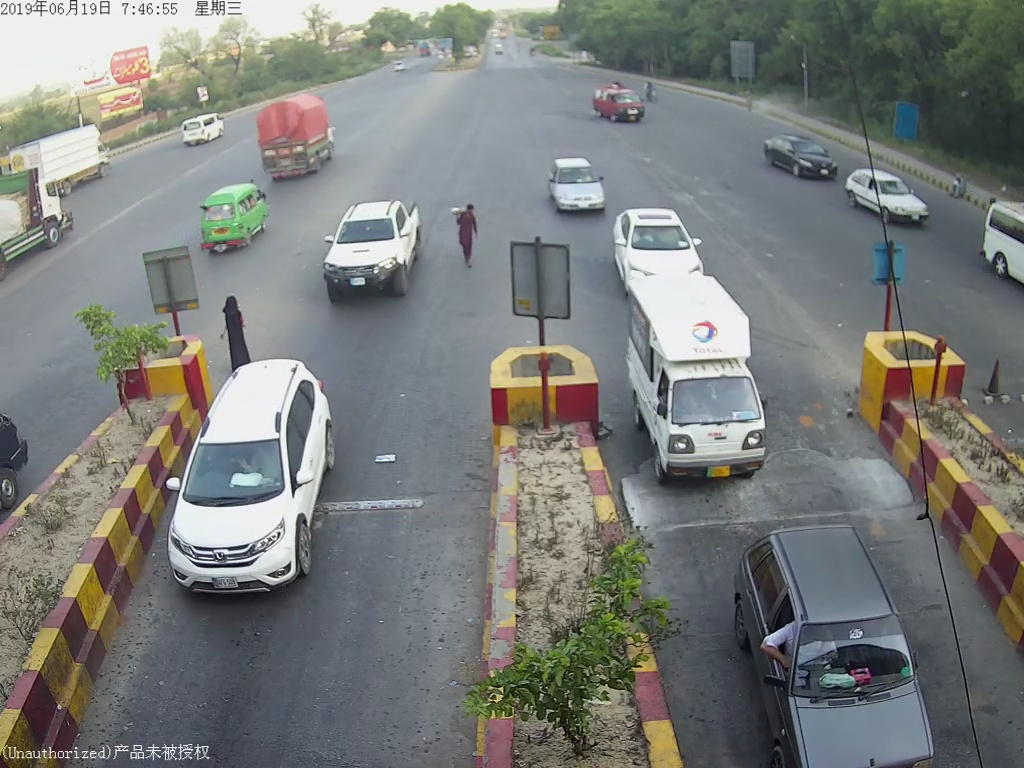Cat-1: (728, 519, 951, 768), (177, 364, 348, 600), (631, 293, 778, 488), (317, 197, 423, 303), (548, 149, 611, 219)
